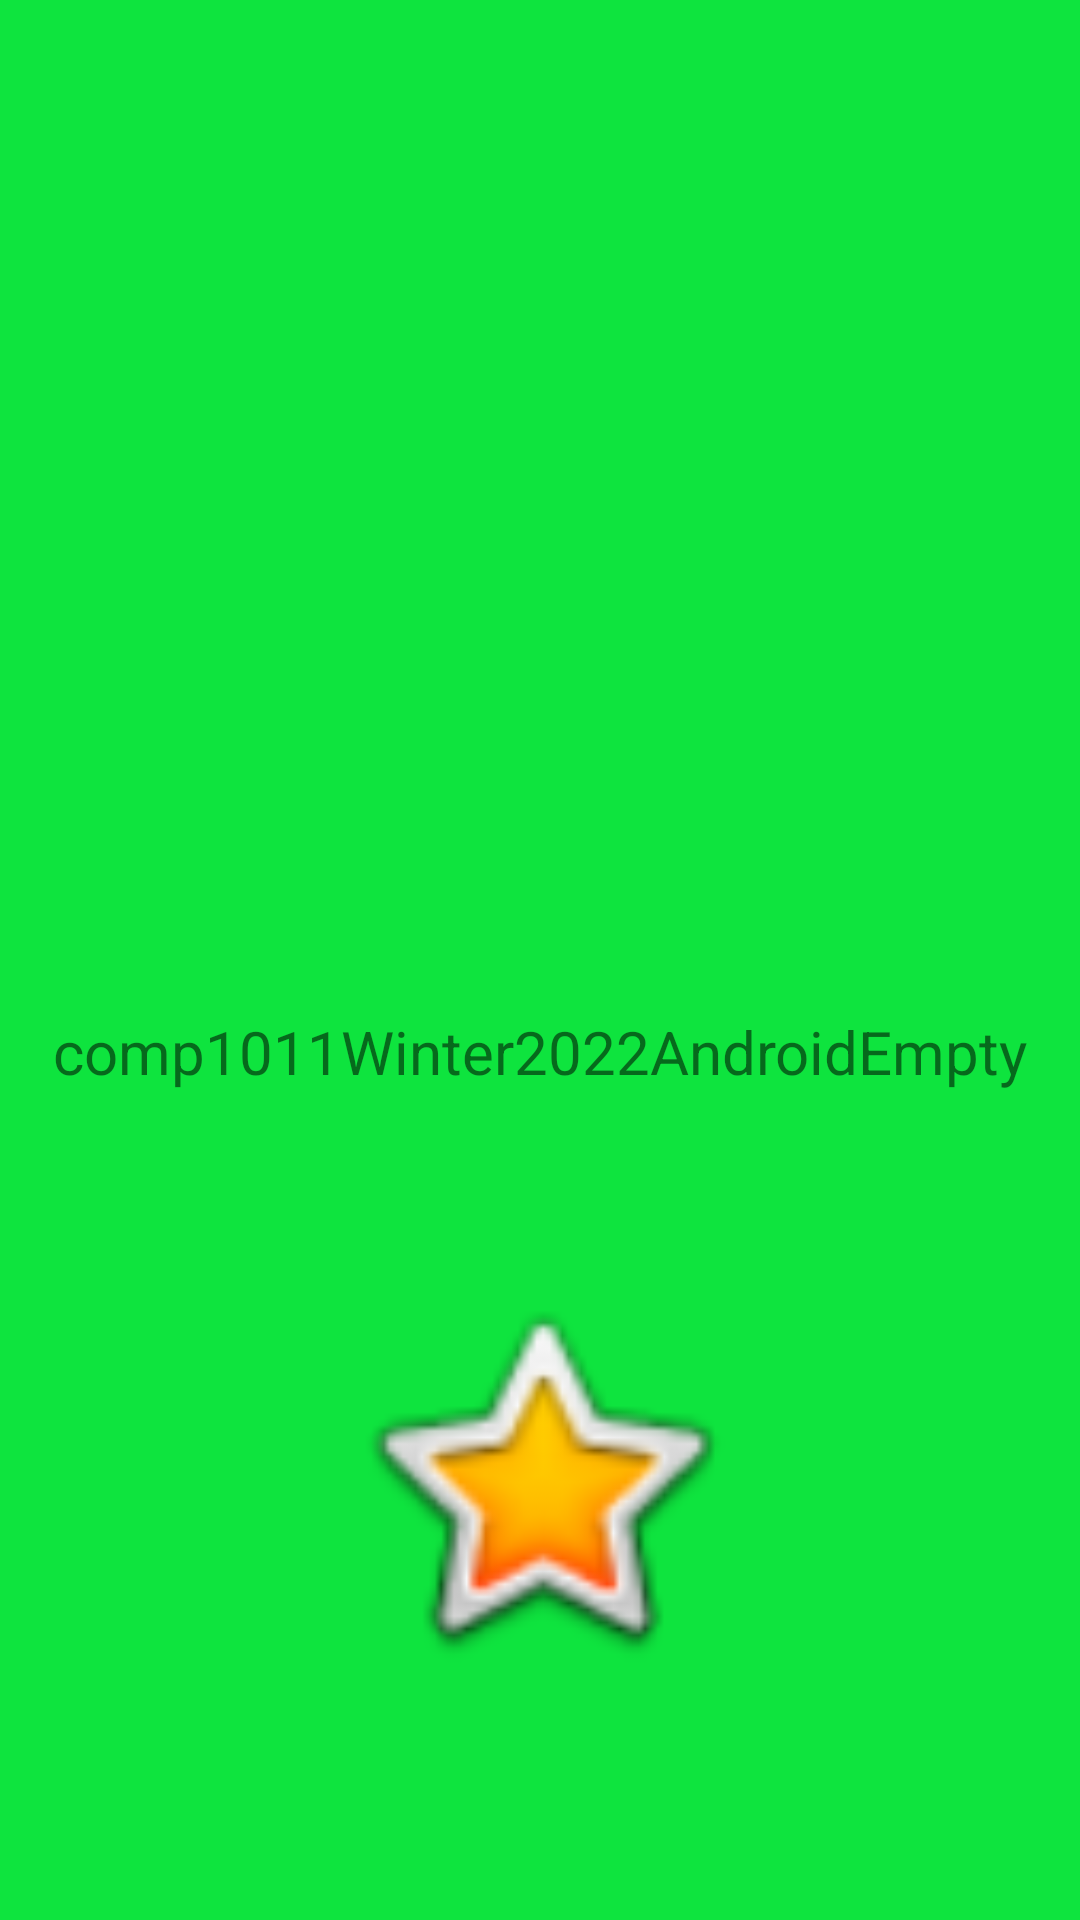

Icons on this 1080px×1920px Android screen, each with the point to tap as [x,y]:
Star: [543,1482]
